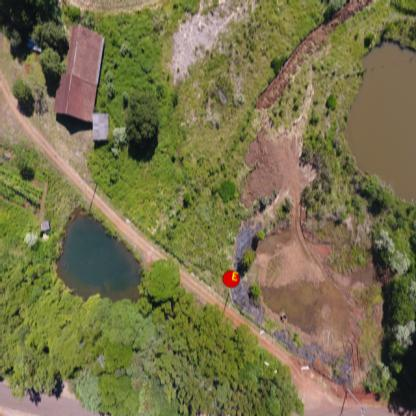E: (232, 270, 238, 282)
circle: (221, 268, 240, 288)
